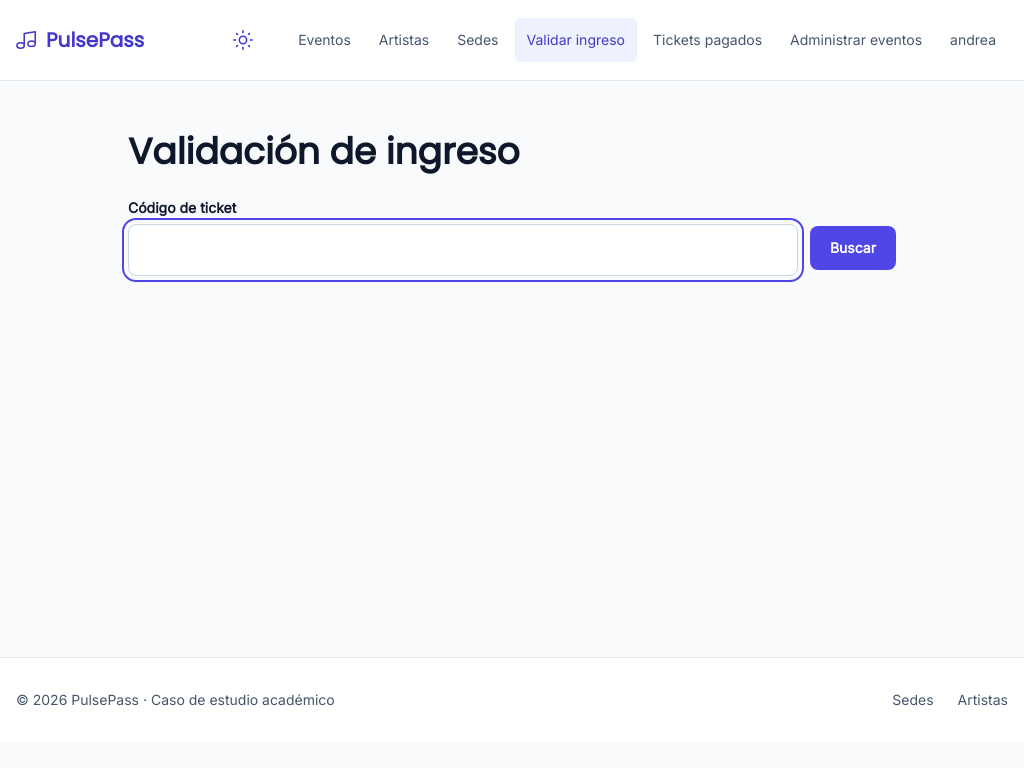
Test: TEST-FE-STF-001 buscar y registrar ingreso
Step 1. Type "TKT-8F2A1C" into the field labelled "Código de ticket" → (463, 250), box top-left (128, 224), bottom-right (798, 276)
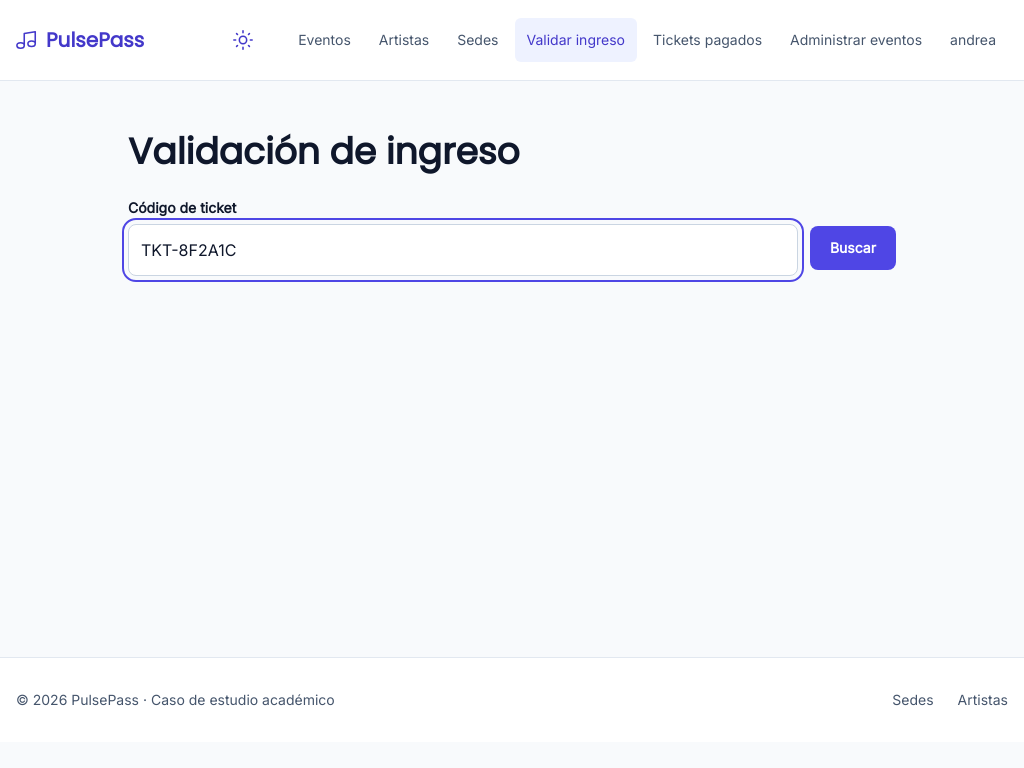
Step 2. Click the button "Buscar" → (853, 248), box top-left (810, 226), bottom-right (896, 270)
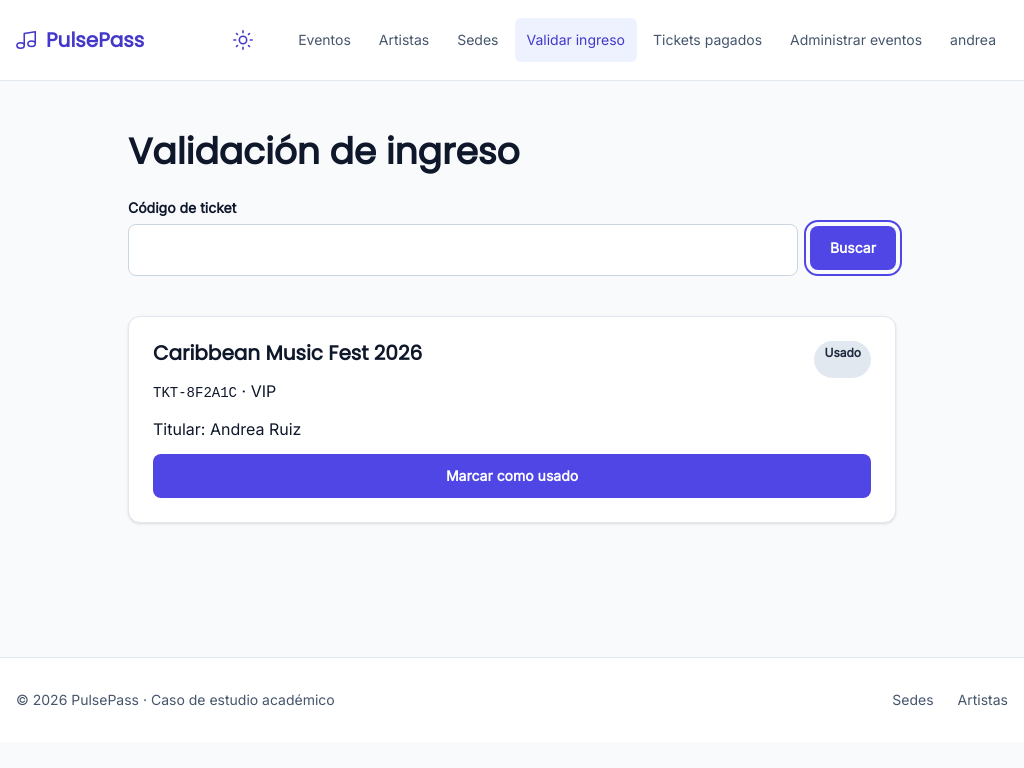
Step 3. Click the button "Marcar como usado" → (512, 476), box top-left (153, 454), bottom-right (871, 498)
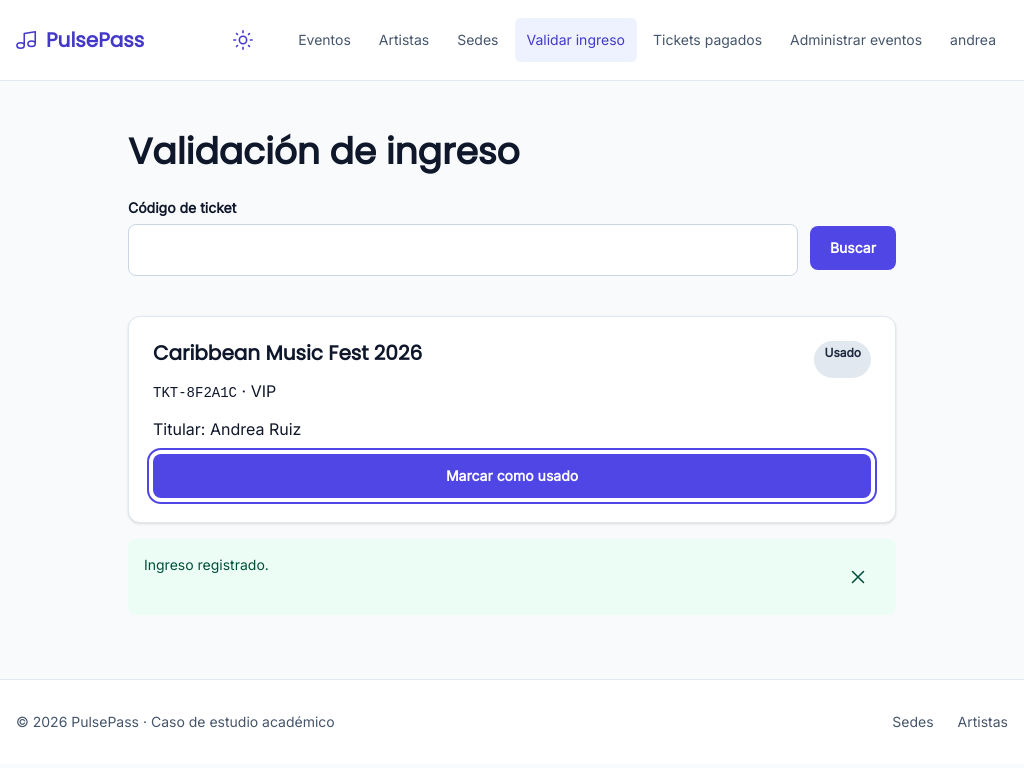
Now the text "Usado" is shown, box top-left (814, 341), bottom-right (871, 378)
Now the text "Ingreso registrado." is shown, box top-left (144, 555), bottom-right (269, 575)
